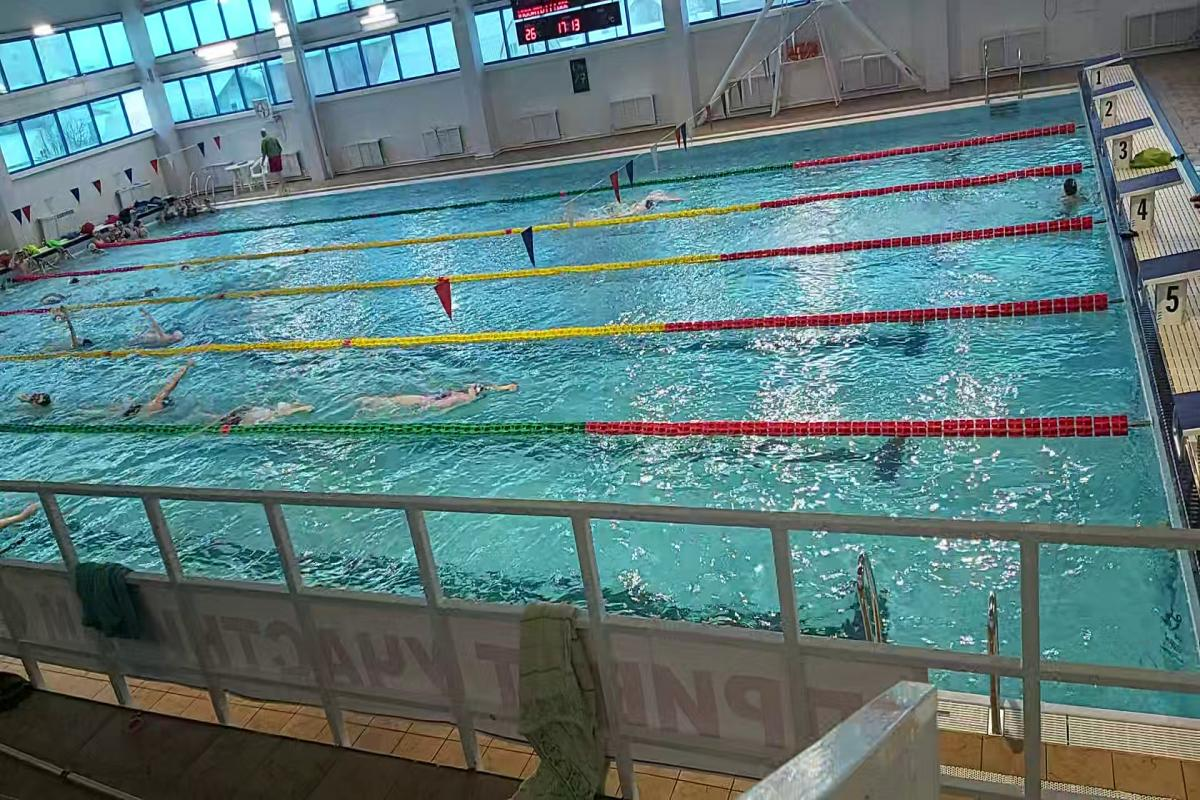swimmer: (366, 372, 526, 416), (109, 356, 192, 420), (208, 396, 328, 422), (128, 314, 192, 345), (10, 384, 63, 419), (51, 312, 100, 346), (1047, 177, 1093, 210), (628, 187, 688, 212)
